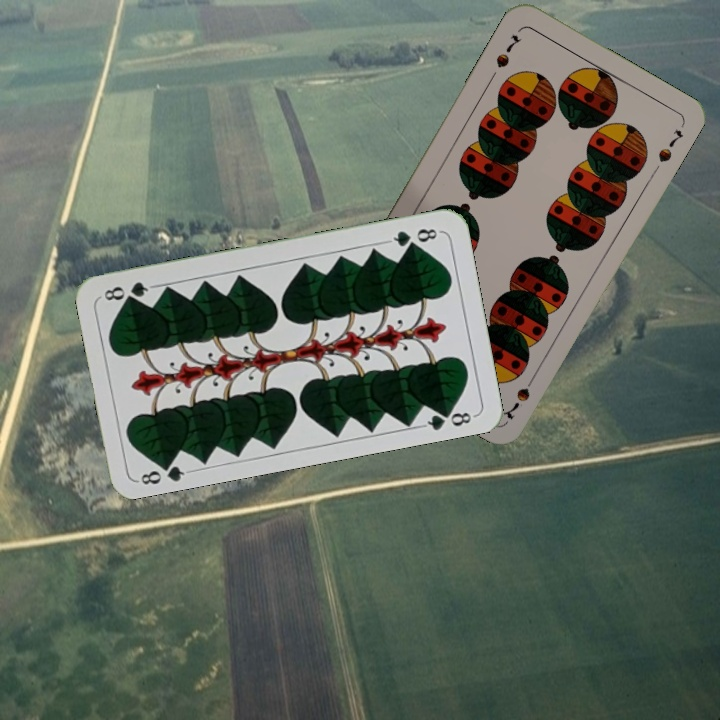G8: (134, 455, 193, 488), (384, 224, 443, 250)
S7: (498, 369, 539, 422), (492, 30, 523, 71)
